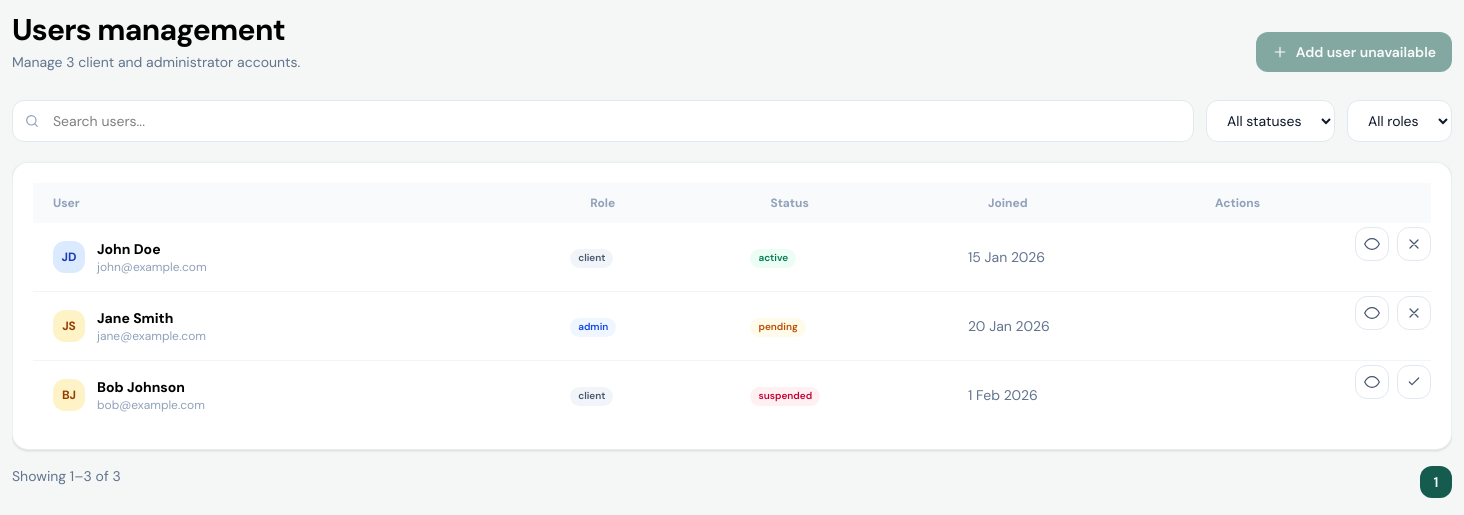
it: AdminUsers › suspends an active user
Expected: the text "John Doe" is shown, [97,240,161,258]
Click the button named "Suspend John Doe": click(1414, 244) [1397,227,1431,261]
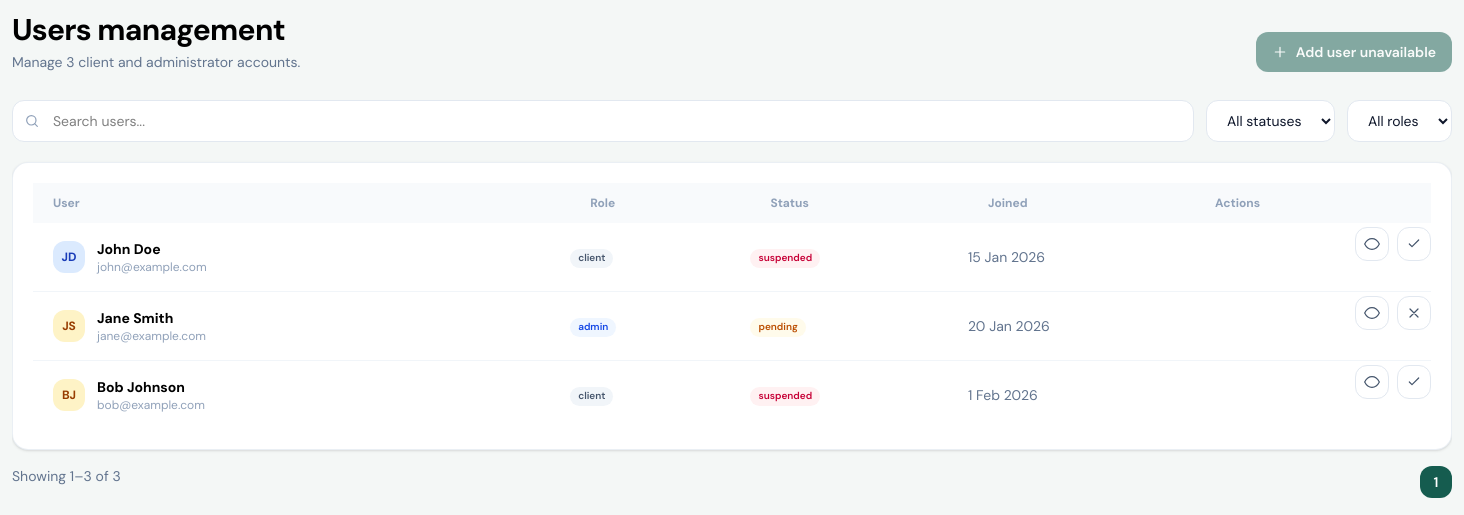
Result: the button named "Reactivate John Doe" is shown at [1397,227,1431,261]
